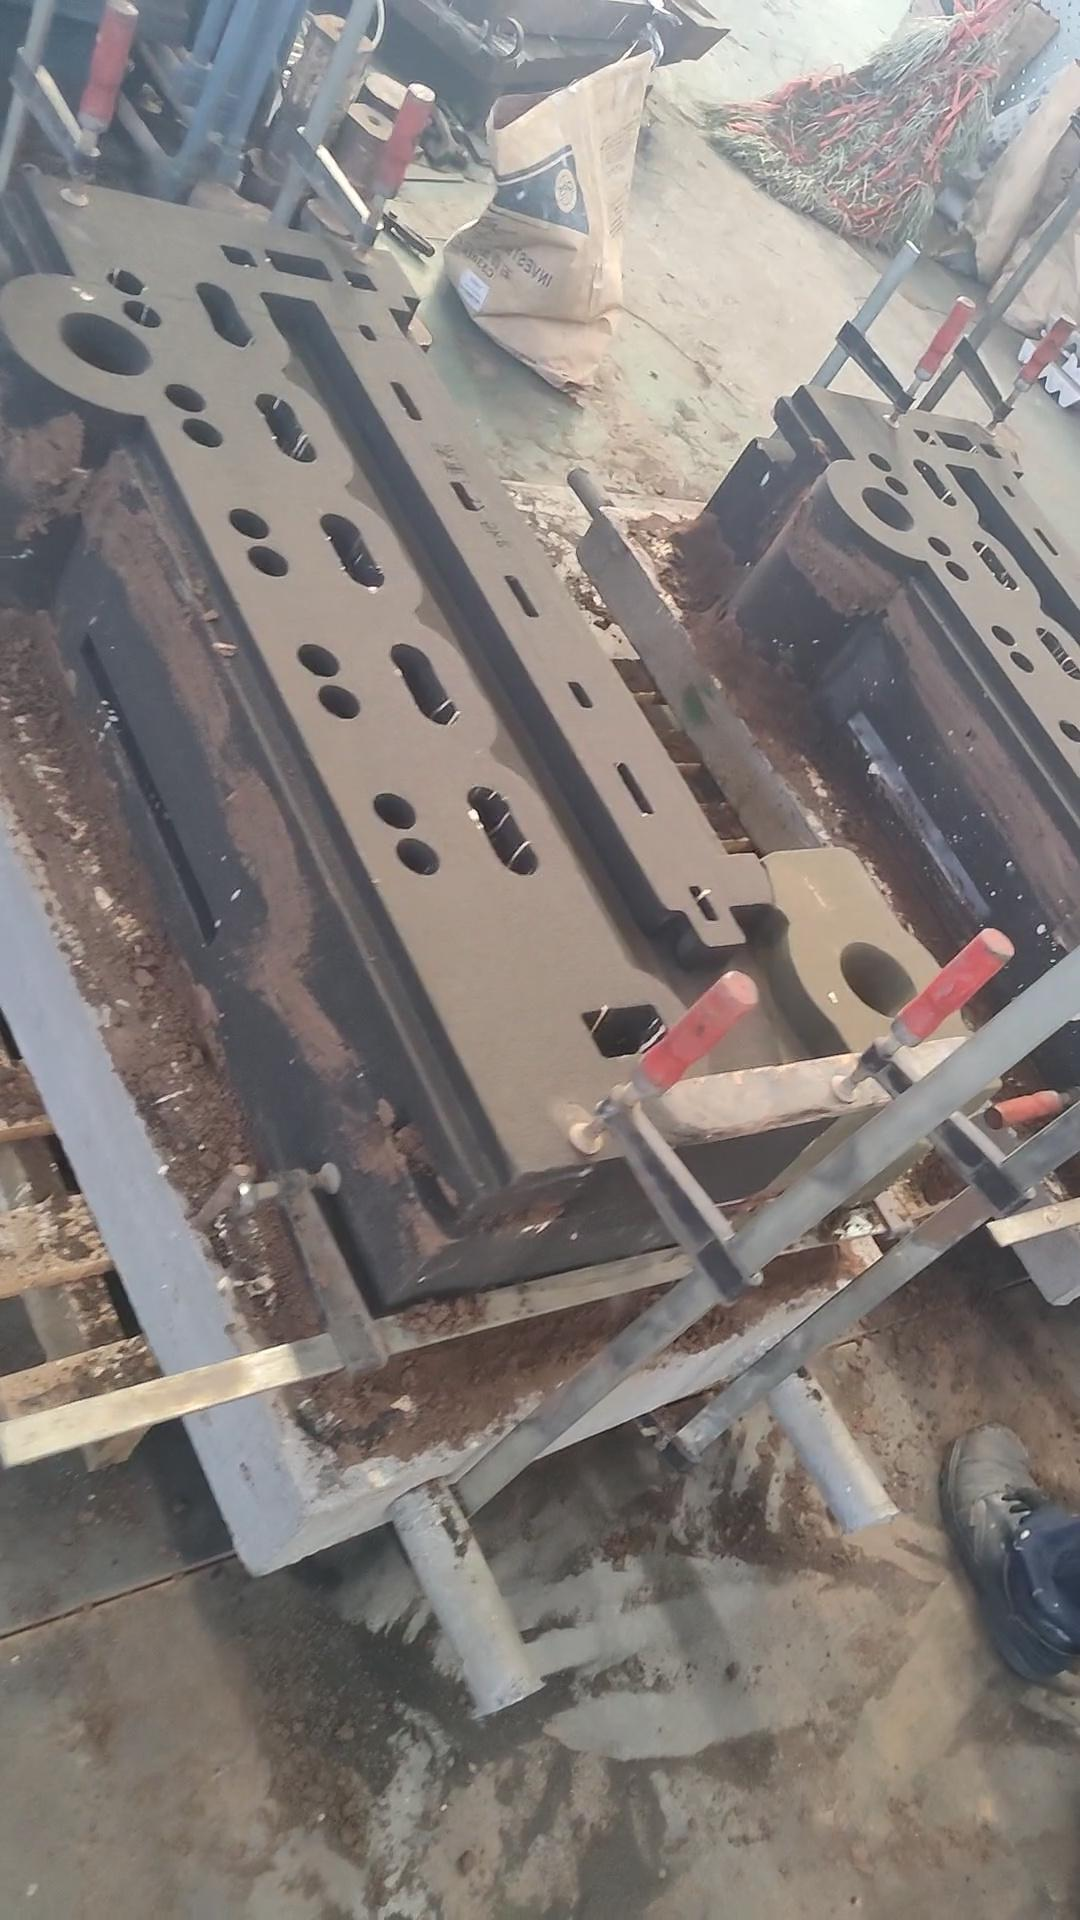pouring hole: (841, 942, 920, 1022), (58, 310, 153, 376), (860, 485, 916, 533)
